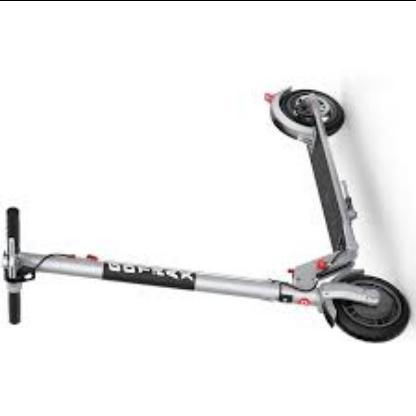bike: (2, 86, 411, 344)
